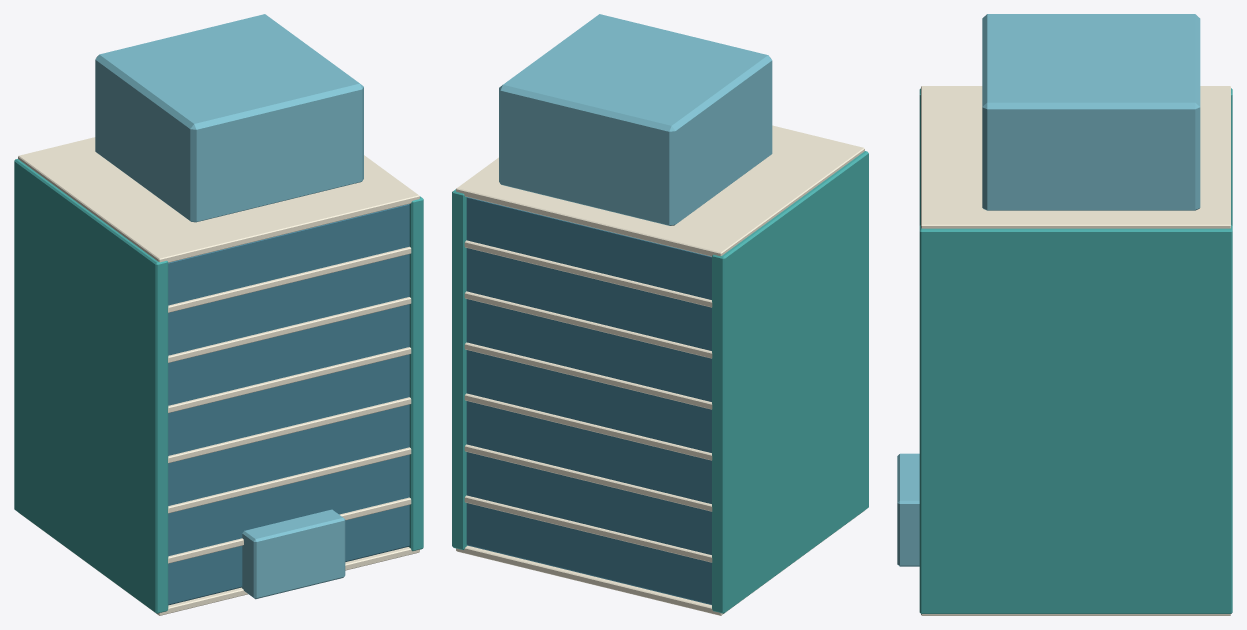
The model's file is OFF_MID_2x2_002.glb.
3 views of the same model, side by side, from view 1: azimuth 30°, elevation 25°; view 2: azimuth 150°, elevation 25°; view 3: azimuth 270°, elevation 25° (orthographic). The views are drawn at different scales.
Parts seen in each view (by area): view 1: OFF_MID_2x2_002_Visual; view 2: OFF_MID_2x2_002_Visual; view 3: OFF_MID_2x2_002_Visual.
Boxes of the visible parts, x1,y1,x2,y2 form: OFF_MID_2x2_002_Visual: (14,14,423,615); OFF_MID_2x2_002_Visual: (452,14,868,615); OFF_MID_2x2_002_Visual: (897,14,1232,615).
Size of what is drawn, in the model's own units: 3.36 by 5.44 by 3.32.
